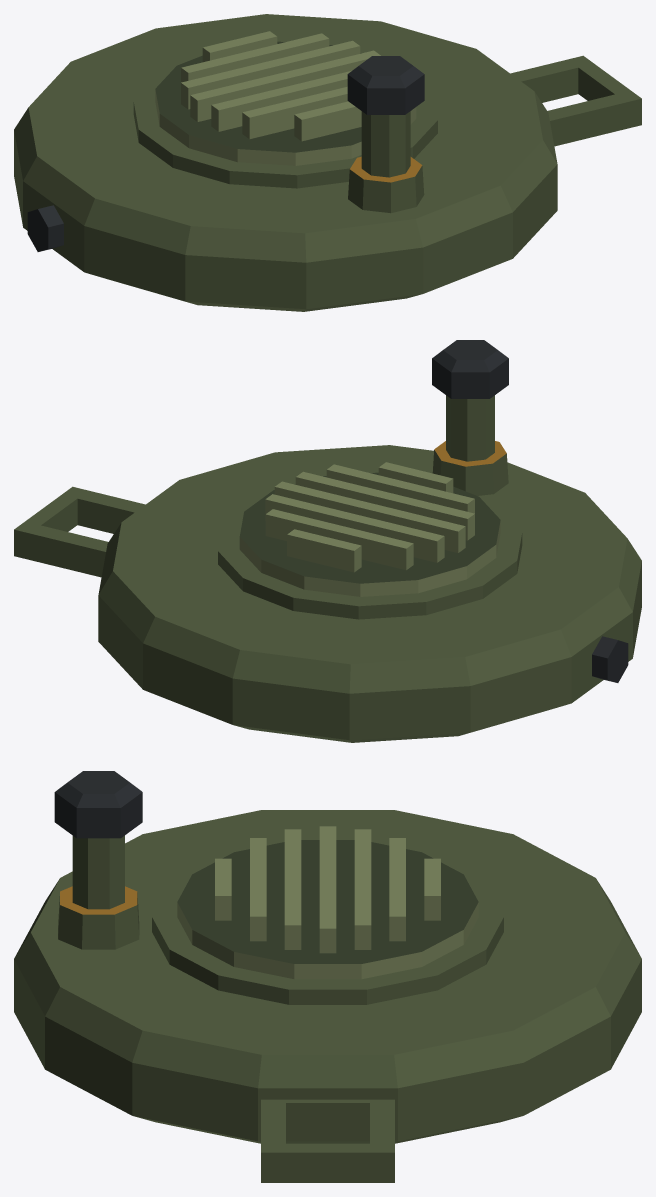
File: anti-tank-mine-4dde16.glb
3 renders of one model, top to bottom at view 1: azimuth 30°, elevation 25°; view 2: azimuth 150°, elevation 25°; view 3: azimuth 270°, elevation 25°, orthographic. The views are drawn at different scales.
Visible parts, largest first — view 1: mine-body, fuze-cap-mesh; view 2: mine-body, fuze-cap-mesh; view 3: mine-body, fuze-cap-mesh.
Boxes of the visible parts, box(x1,y1,x2,y2) form: mine-body: box(14, 14, 641, 311); fuze-cap-mesh: box(347, 56, 424, 114); mine-body: box(14, 395, 641, 742); fuze-cap-mesh: box(432, 340, 508, 398); mine-body: box(14, 810, 641, 1182); fuze-cap-mesh: box(54, 771, 142, 838).
Size of the model in its own units: 0.3622 by 0.131 by 0.3.
